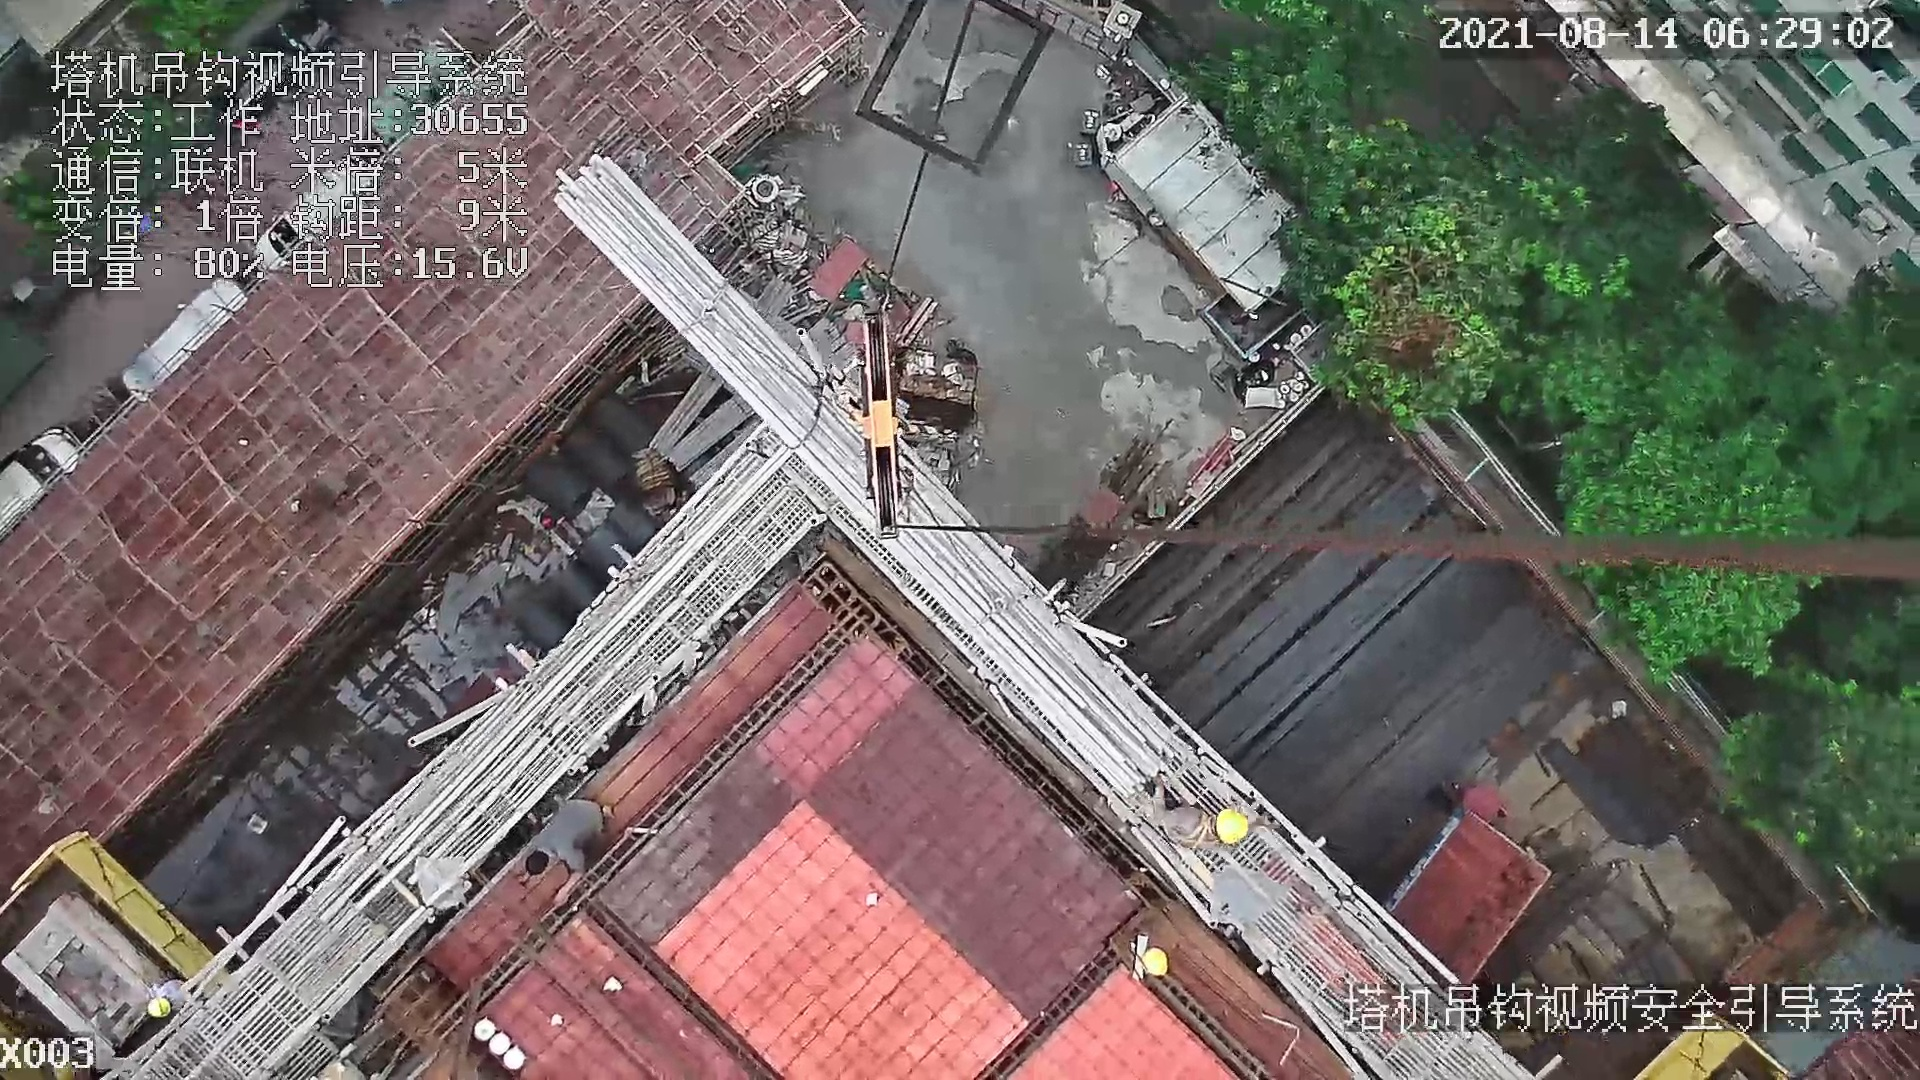helmet: (1212, 803, 1250, 856), (1141, 951, 1173, 982)
hook: (851, 314, 908, 539)
person: (1150, 769, 1256, 862)
rebar: (1138, 432, 1555, 819)
